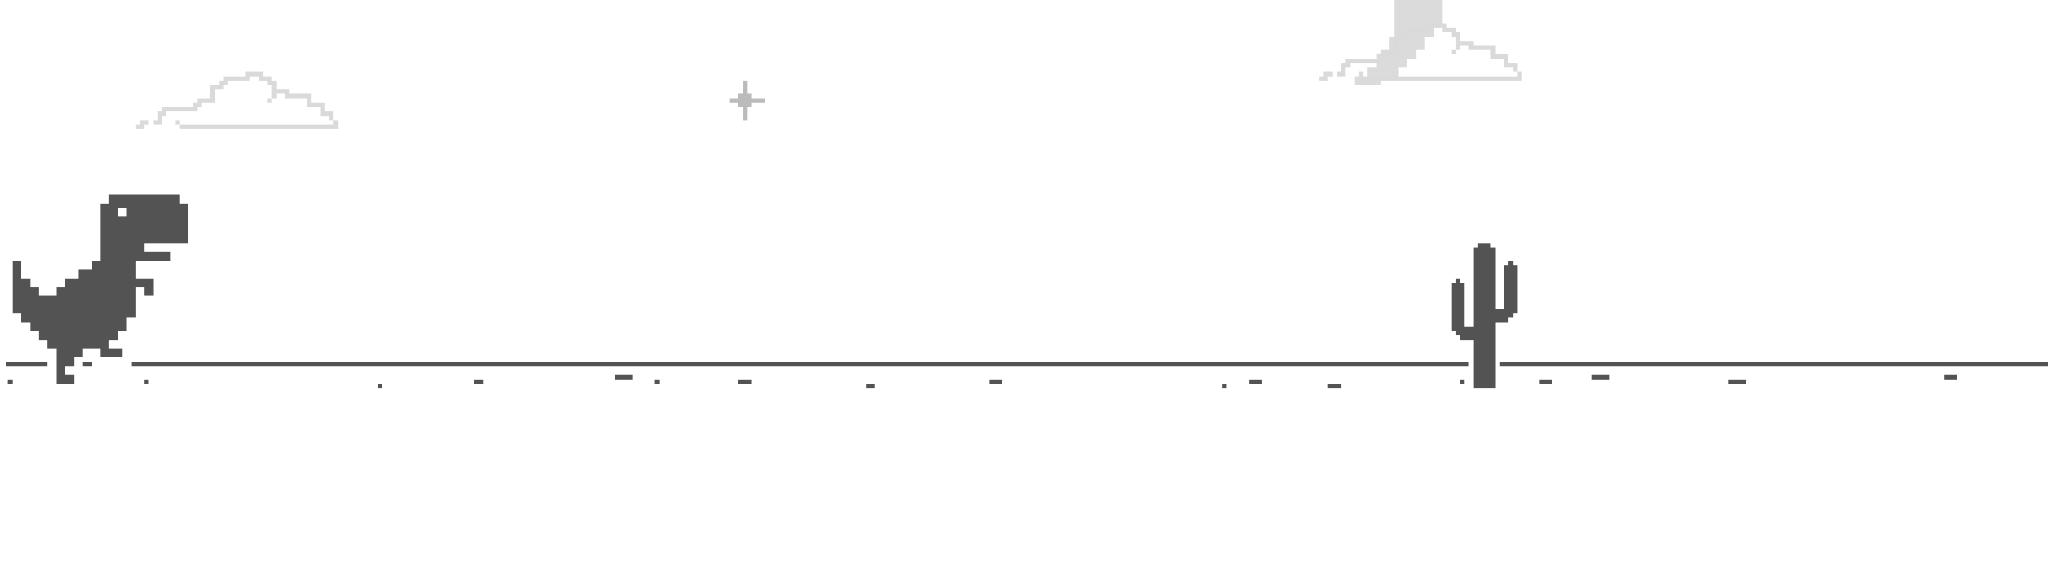6: (7, 184, 193, 388)
t-rex: (1446, 236, 1523, 393)
